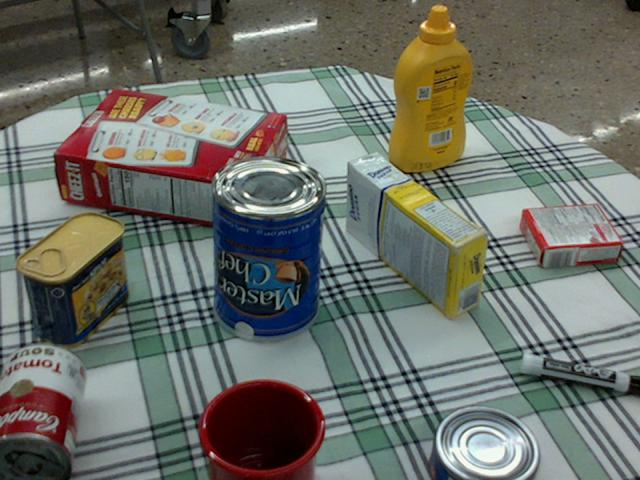cracker_box: (54, 89, 283, 228)
gelatin_box: (518, 204, 621, 267)
large_marker: (521, 352, 639, 395)
master_chef_can: (209, 155, 324, 341)
mug: (192, 379, 320, 479)
mustard_bottle: (387, 5, 471, 170)
potted_meat_can: (17, 212, 127, 347)
sugar_box: (345, 153, 487, 318)
tomato_soup_can: (0, 343, 85, 479)
tuna_fish_can: (428, 408, 539, 479)
